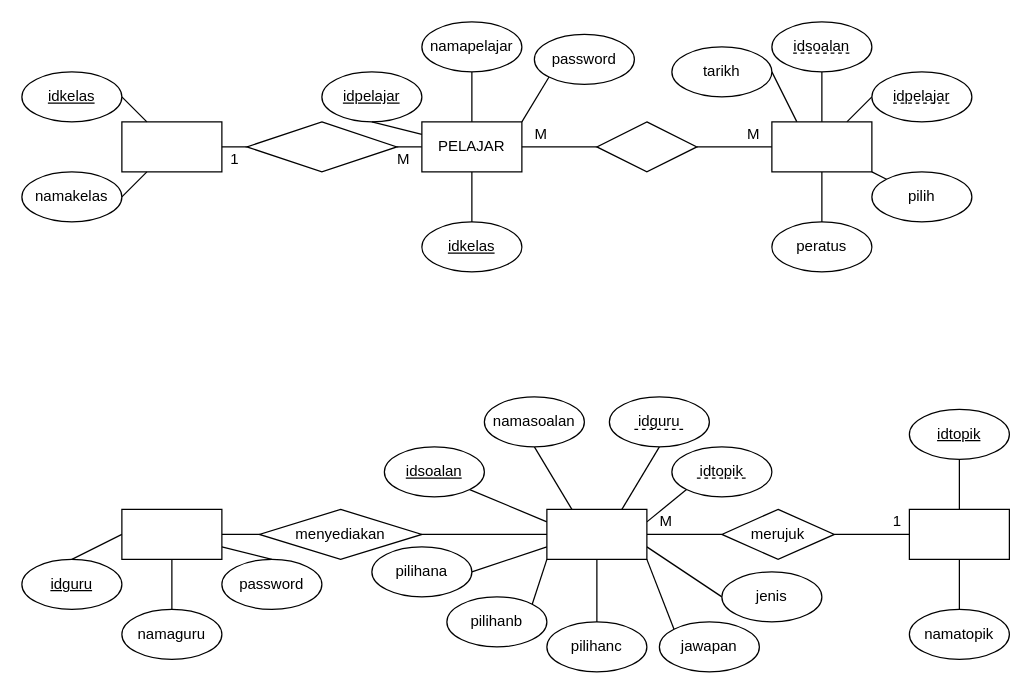
This 1031x694 diagram has some shape labels left out. The centre of each missing label's shape, as x and y in pixels:
GURU: (171,533)
KELAS: (171,146)
KUIZ: (821,146)
mempunyai: (321,146)
menjawab: (646,146)
SOALAN: (596,533)
TOPIK: (958,533)
